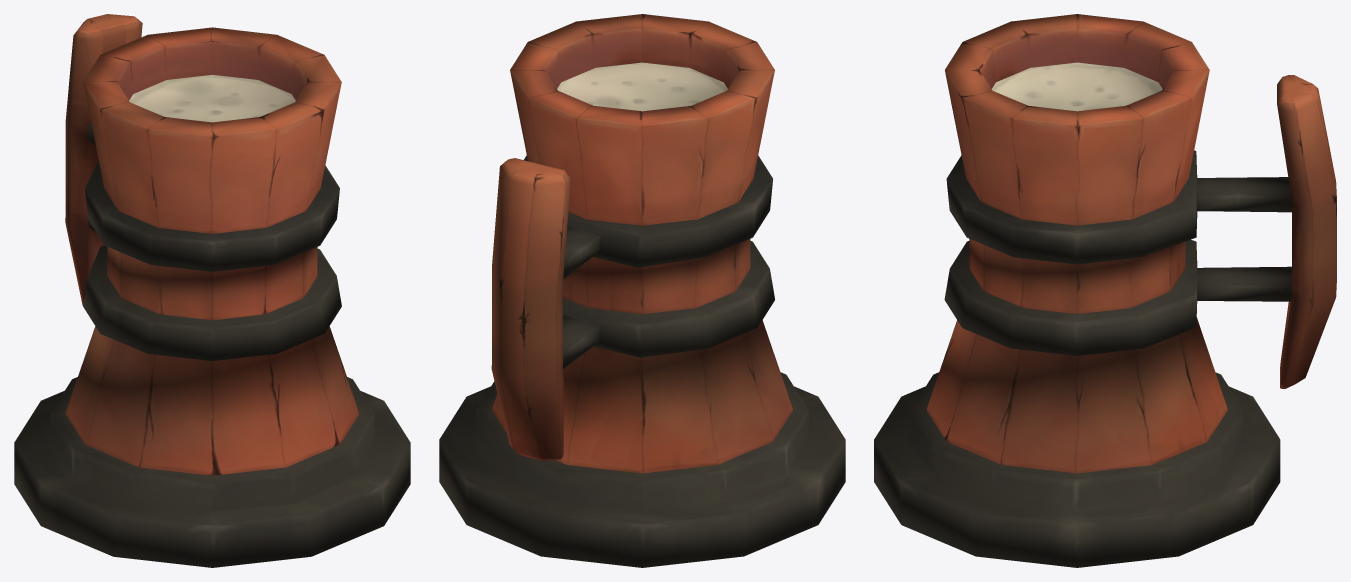
Rendered from BeerMug.fbx.
3 views of the same model, side by side, from view 1: azimuth 30°, elevation 25°; view 2: azimuth 150°, elevation 25°; view 3: azimuth 270°, elevation 25° (orthographic). The views are drawn at different scales.
Parts seen in each view (by area): view 1: Cylinder; view 2: Cylinder; view 3: Cylinder.
Part boxes in pixels (x1,y1,x2,y2): Cylinder: [14, 14, 410, 567]; Cylinder: [439, 14, 845, 567]; Cylinder: [874, 14, 1336, 567].
Size of the model in its own units: 18.15 by 20.31 by 20.67.
1 material, 1 textured.
